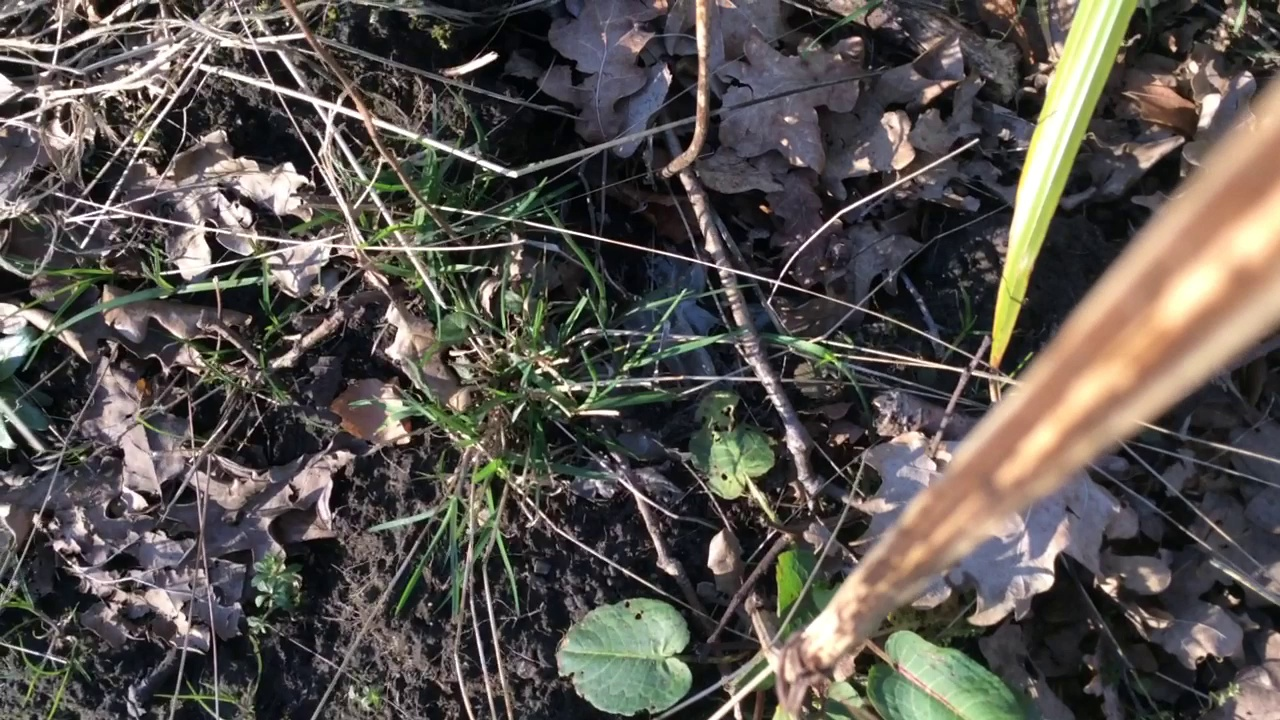rumex: (554, 389, 1038, 720)
